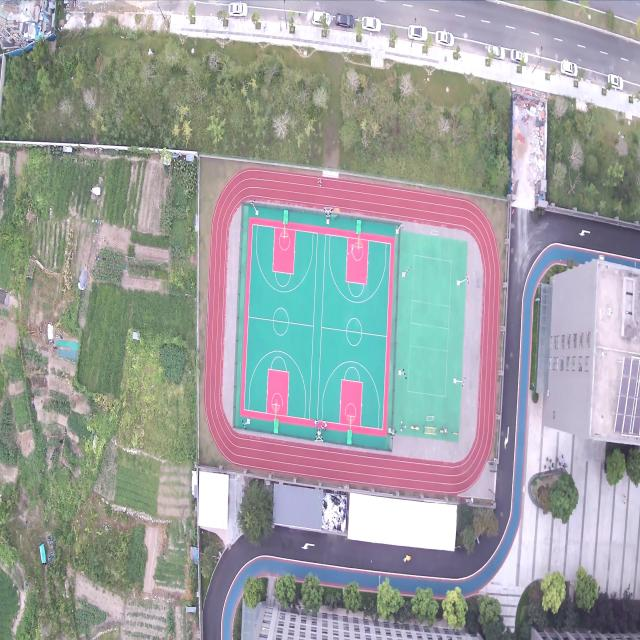UAV: (348, 241, 355, 256)
